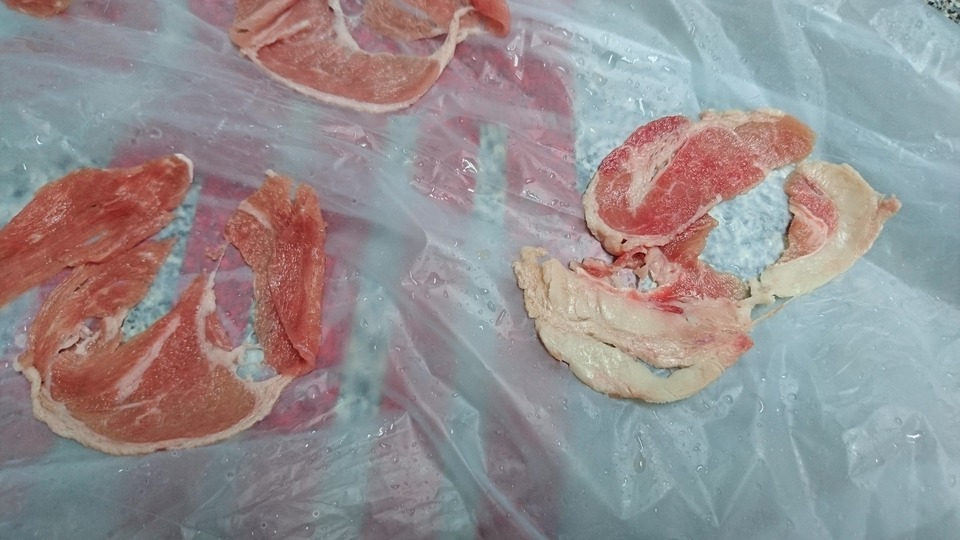restructured meat: (7, 166, 355, 464), (522, 102, 870, 400), (207, 1, 511, 123)
